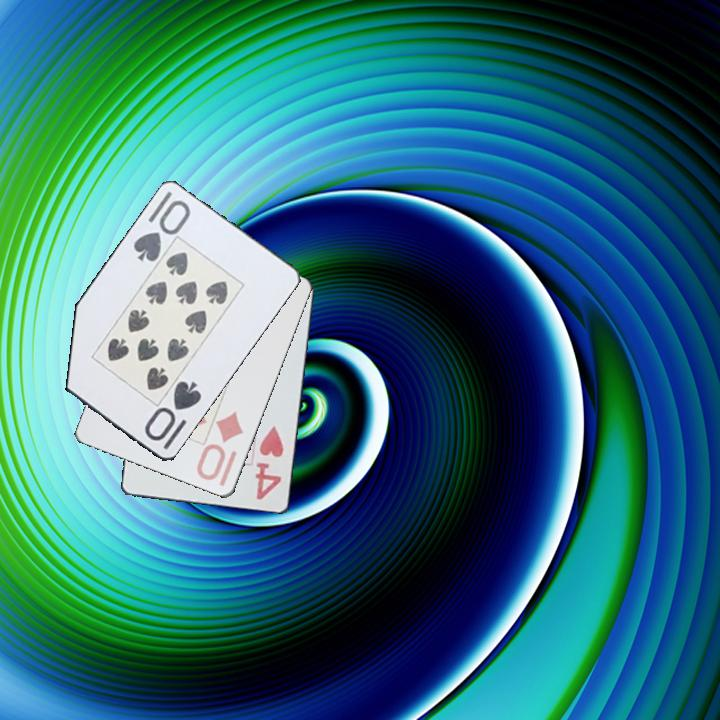4h: (252, 422, 287, 503)
Td: (195, 408, 247, 490)
Ts: (141, 377, 205, 454), (130, 188, 193, 265)
